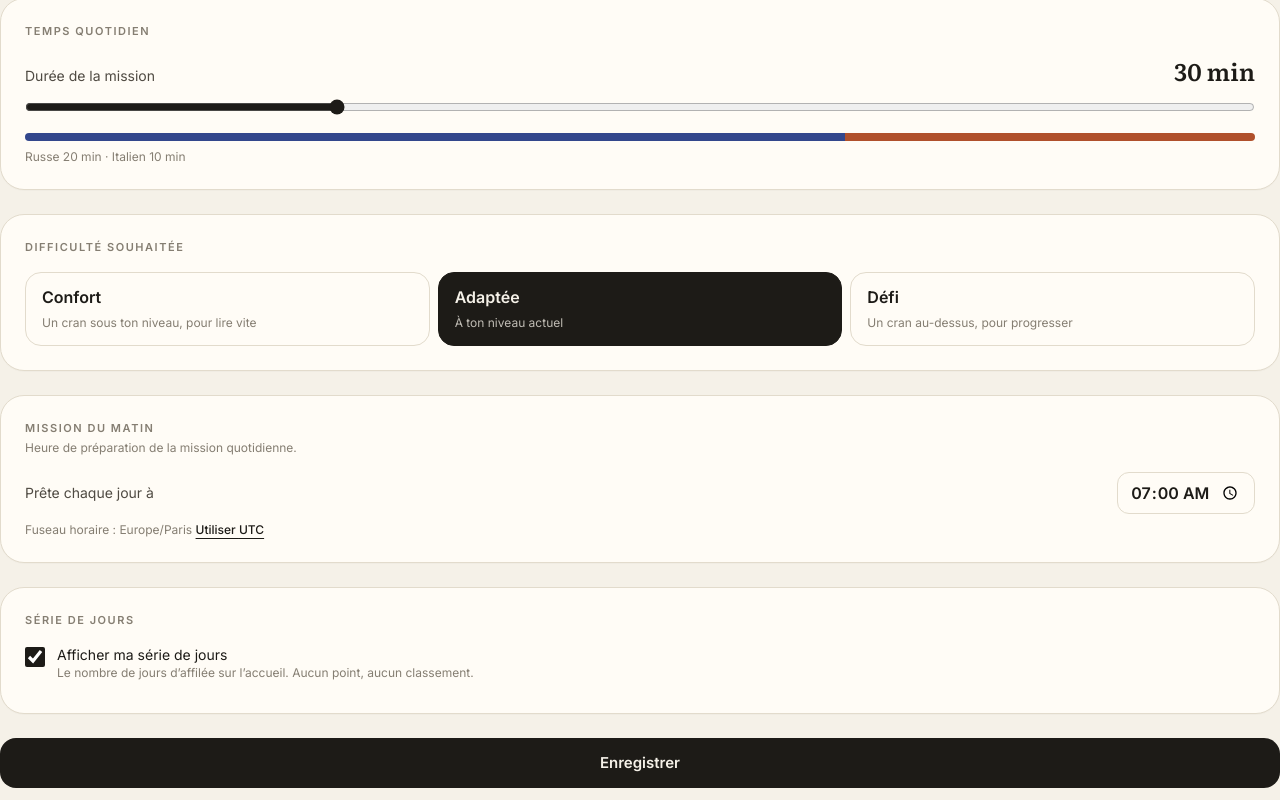
Test: PreferencesForm › saves through the server action and reports success
The width and height of the screenshot is (1280, 800).
(page scrolled)
Click the button "Enregistrer" at (640, 763), box [0, 738, 1279, 788]
(page scrolled)
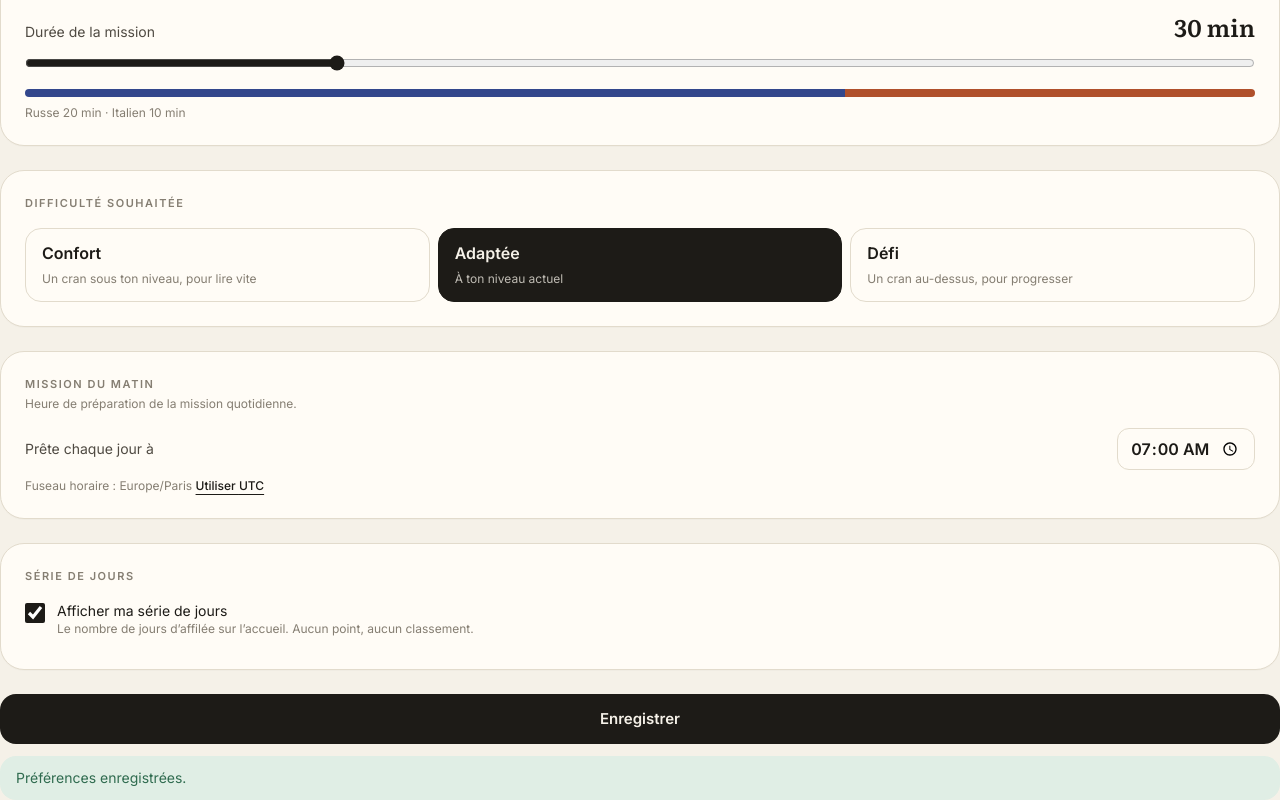
expect the text "Préférences enregistrées." is shown: met, box [0, 756, 1279, 799]
